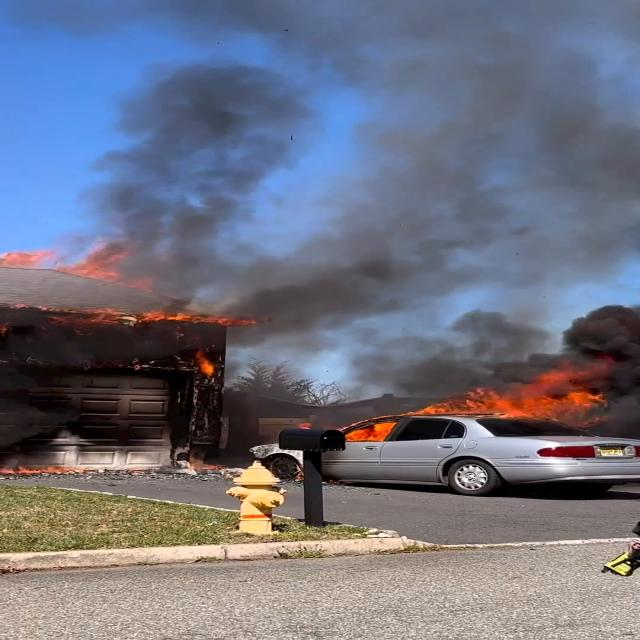smoke: (130, 248, 356, 323), (588, 314, 640, 434)
